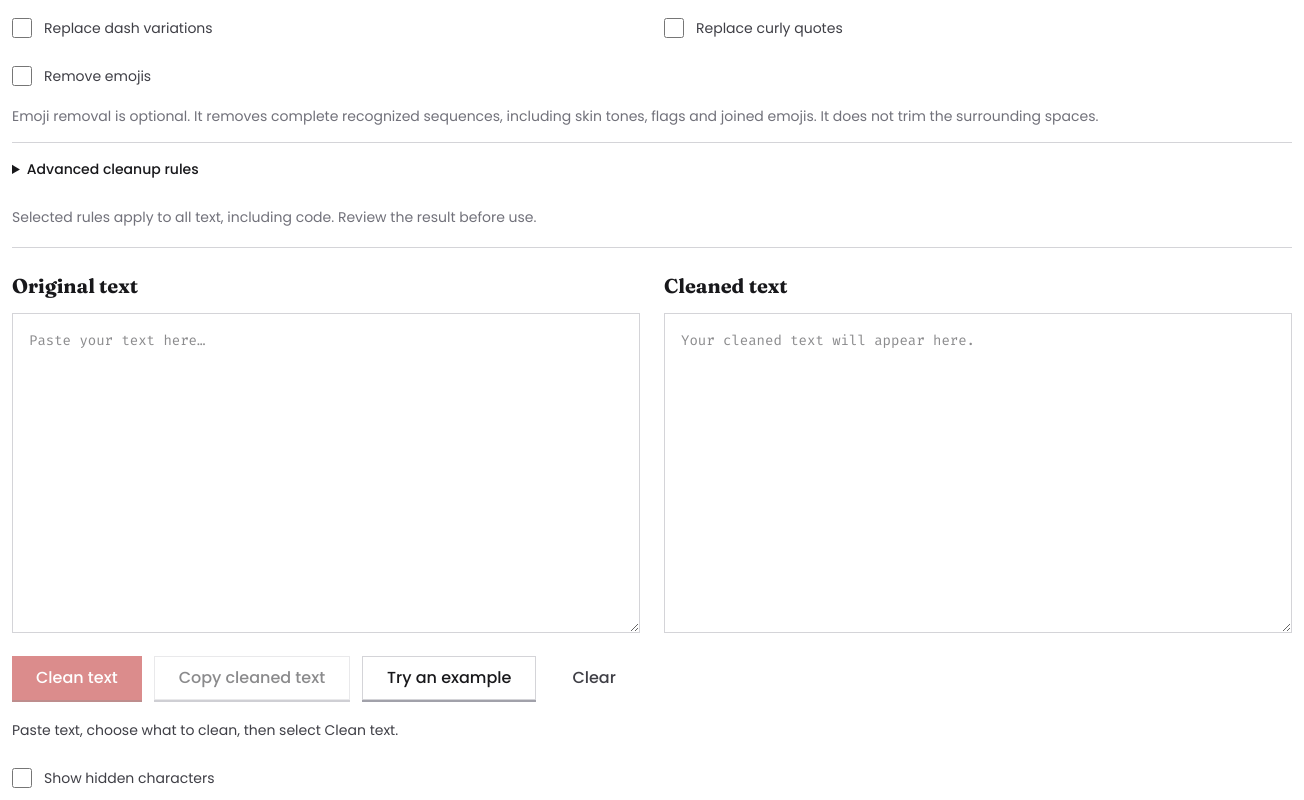
Scenario: TextCleanerComponent › loads a sample, copies the result, and clears both editors
(page scrolled)
Expected: the button "Copy cleaned text" is disabled, top-left (154, 656), bottom-right (350, 700)
Click the button "Try an example" at (449, 678), box top-left (362, 656), bottom-right (536, 700)
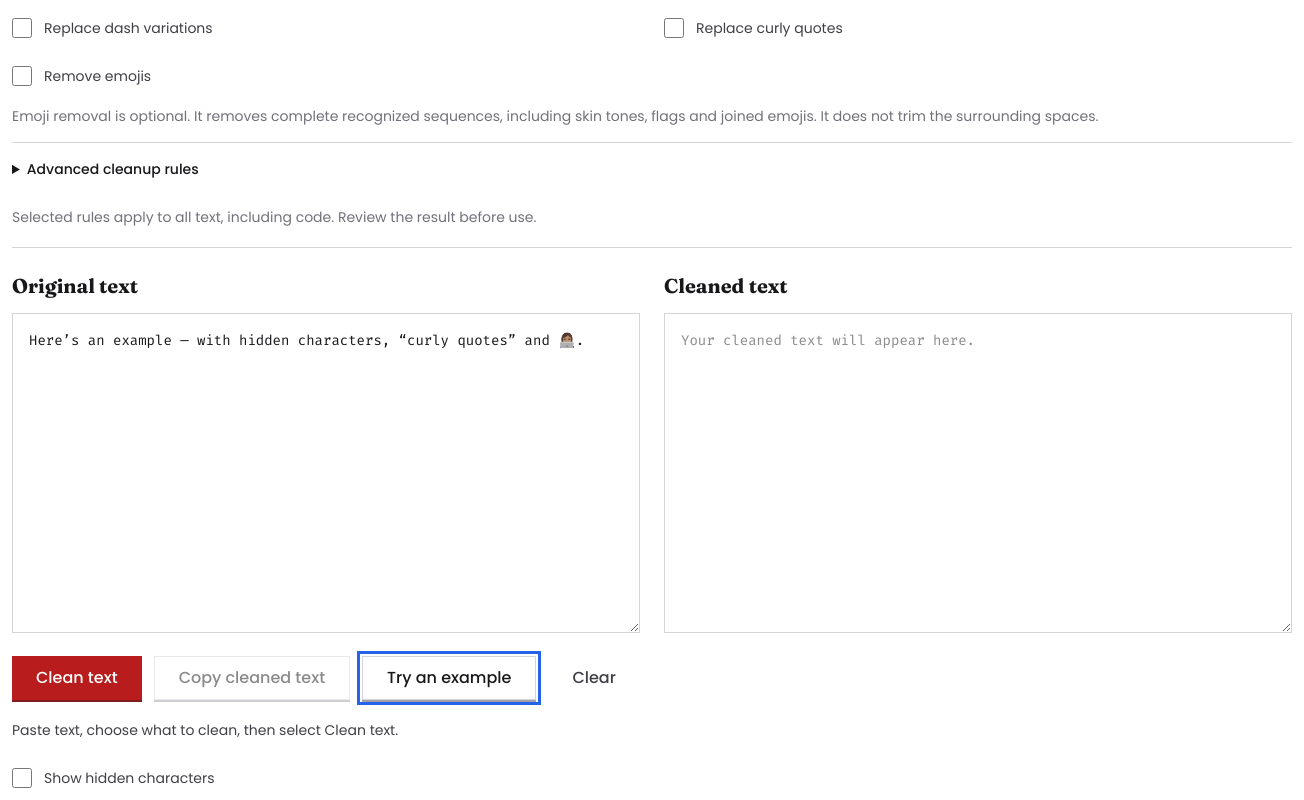
Click the button "Clean text" at (77, 678), box top-left (12, 656), bottom-right (142, 700)
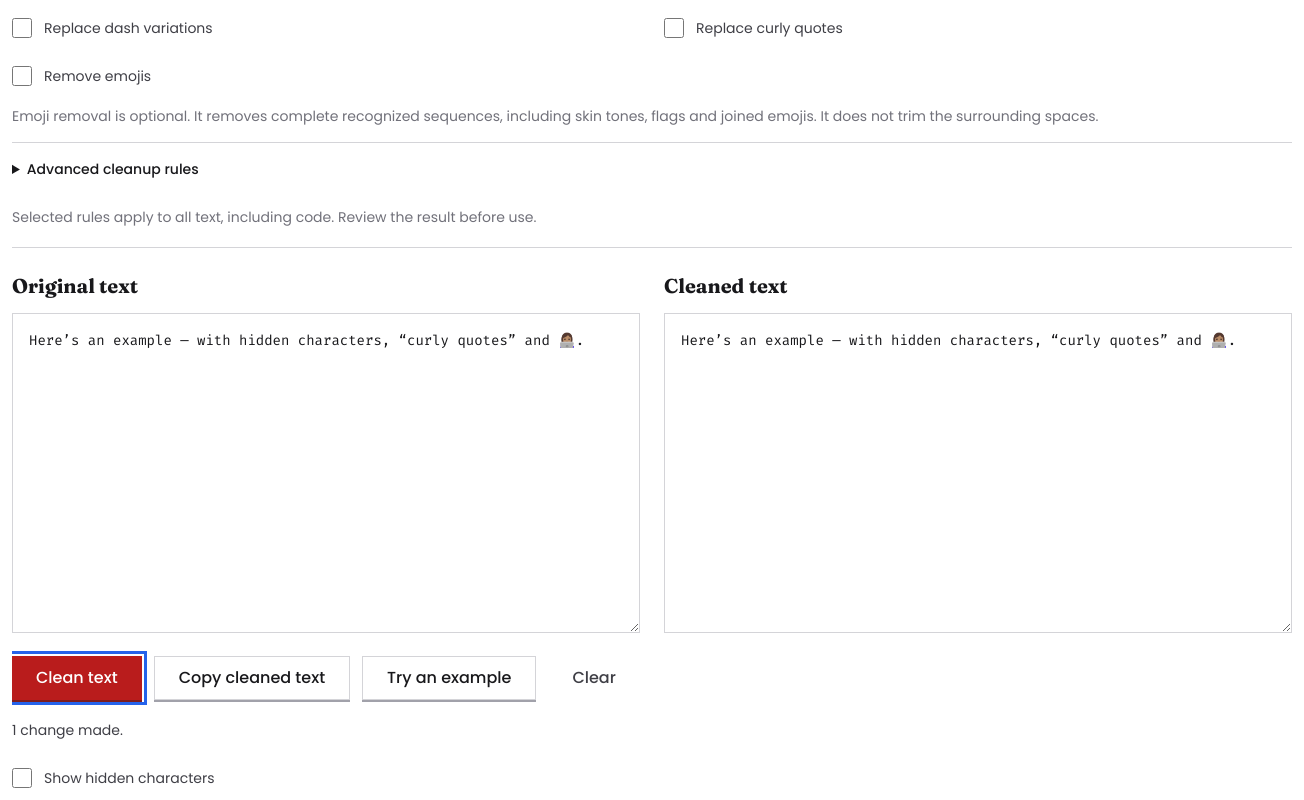
Click the button "Copy cleaned text" at (252, 678), box top-left (154, 656), bottom-right (350, 700)
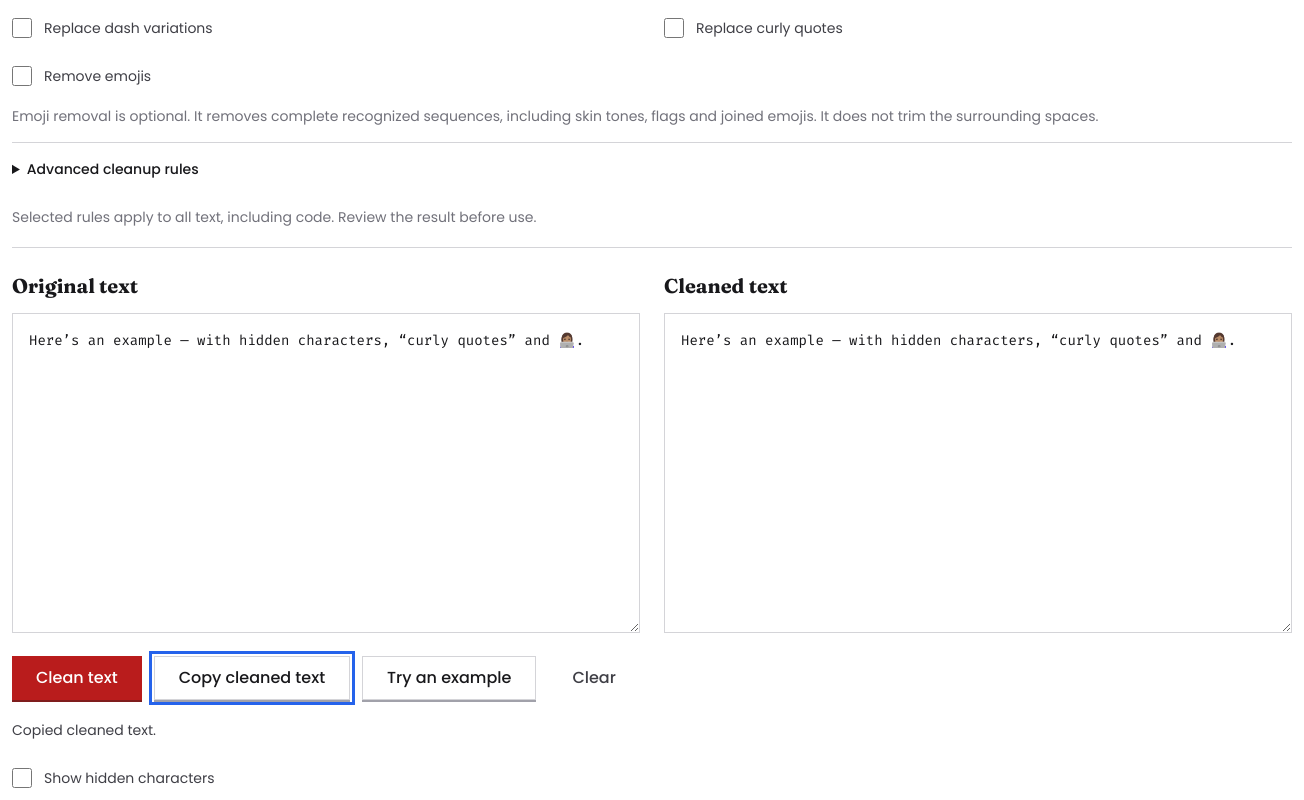
Result: the message shows "Copied" at top-left (12, 720), bottom-right (156, 740)
Click the button "Clear" at (594, 678), box top-left (548, 656), bottom-right (640, 700)
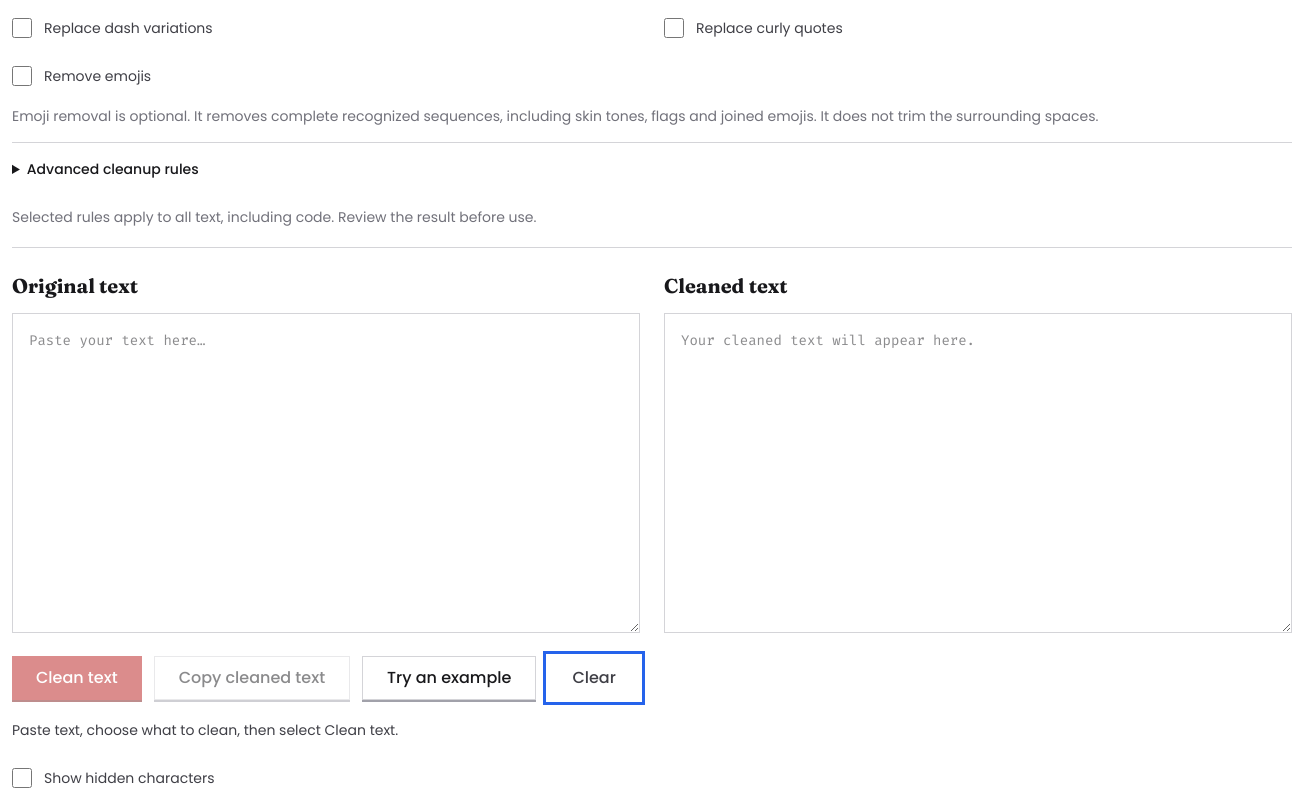
Result: the text box labelled "Original text" is empty at top-left (12, 313), bottom-right (640, 633)
Result: the text box labelled "Cleaned text" is empty at top-left (664, 313), bottom-right (1292, 633)
